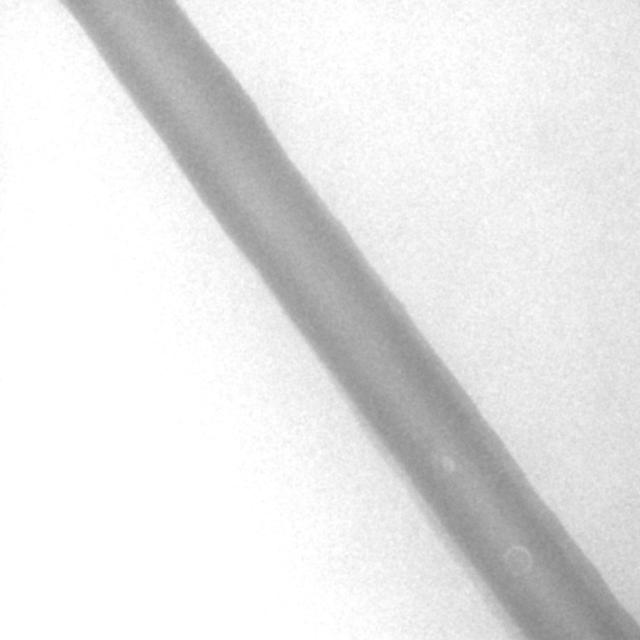air-hole: (442, 455, 455, 474)
